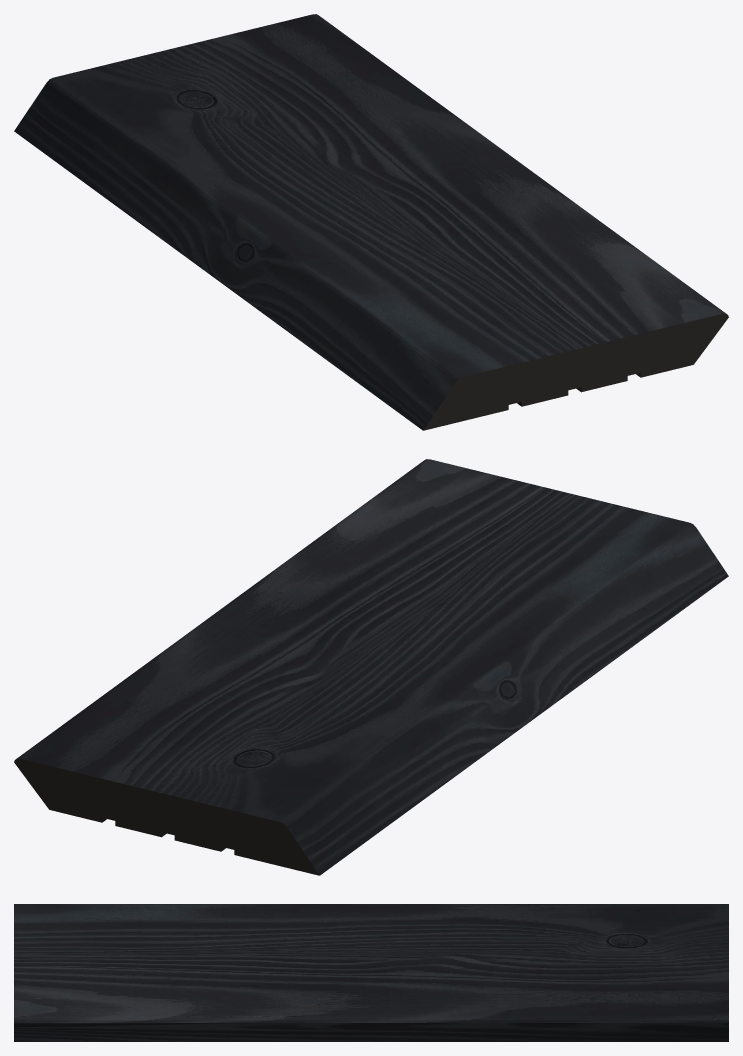
Rendered from larch-facade-rhombus-black.glb.
3 views of the same model, one above another, from view 1: azimuth 30°, elevation 25°; view 2: azimuth 150°, elevation 25°; view 3: azimuth 270°, elevation 25° (orthographic). The views are drawn at different scales.
Visible parts, largest first — view 1: Rombas; view 2: Rombas; view 3: Rombas.
Boxes of the visible parts, x1,y1,x2,y2 form: Rombas: (14, 14, 728, 430); Rombas: (14, 459, 728, 875); Rombas: (14, 904, 728, 1041).
Bounding box in the file's own units: 0.0723 × 0.00995 × 0.1675.
3 materials, 1 textured.
